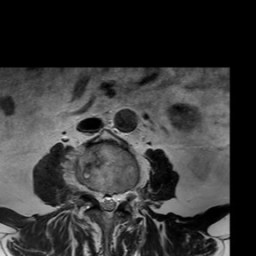CCS_stenosis: (105, 184, 112, 220)
LFS_normal: (119, 182, 128, 209)
LLS_normal: (112, 184, 119, 217)
RFS_stenosis: (88, 179, 97, 205)
RLS_normal: (97, 184, 105, 215)
